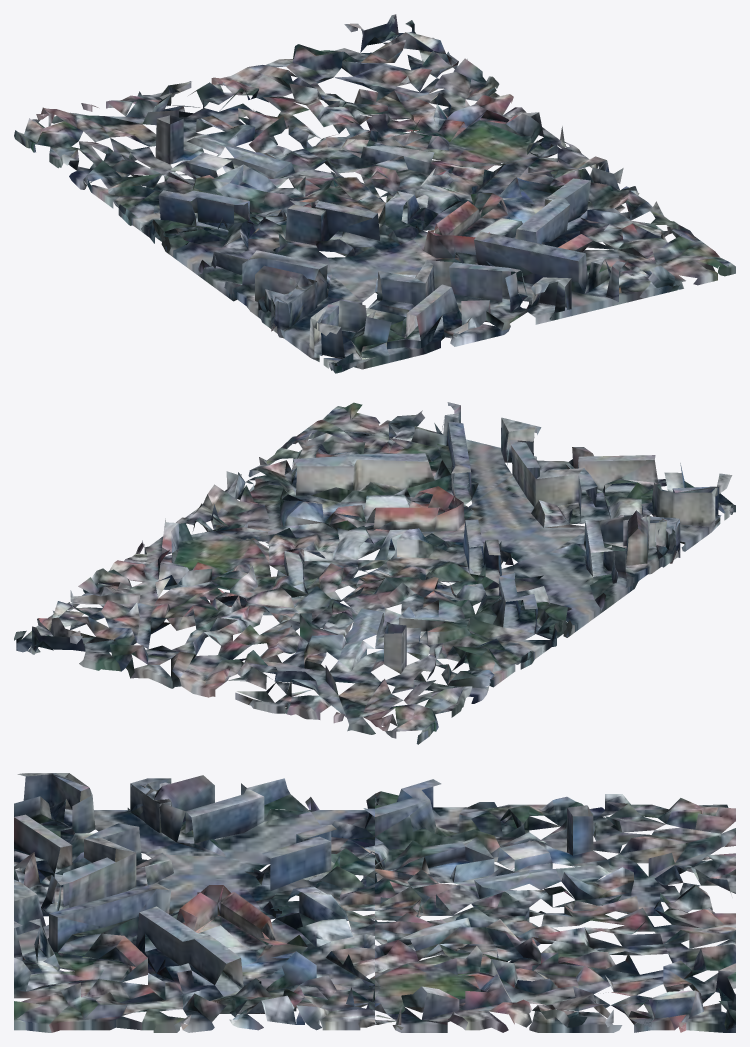
3 views of the same model, one above another, from view 1: azimuth 30°, elevation 25°; view 2: azimuth 150°, elevation 25°; view 3: azimuth 270°, elevation 25° (orthographic). The views are drawn at different scales.
Parts seen in each view (by area): view 1: 3043627270436160_0; view 2: 3043627270436160_0; view 3: 3043627270436160_0.
Part boxes in pixels (x1,y1,x2,y2): 3043627270436160_0: [14, 14, 735, 373]; 3043627270436160_0: [14, 402, 735, 744]; 3043627270436160_0: [14, 773, 735, 1032].
Size of the model in its own units: 439 by 54.29 by 612.
1 material, 1 textured.
